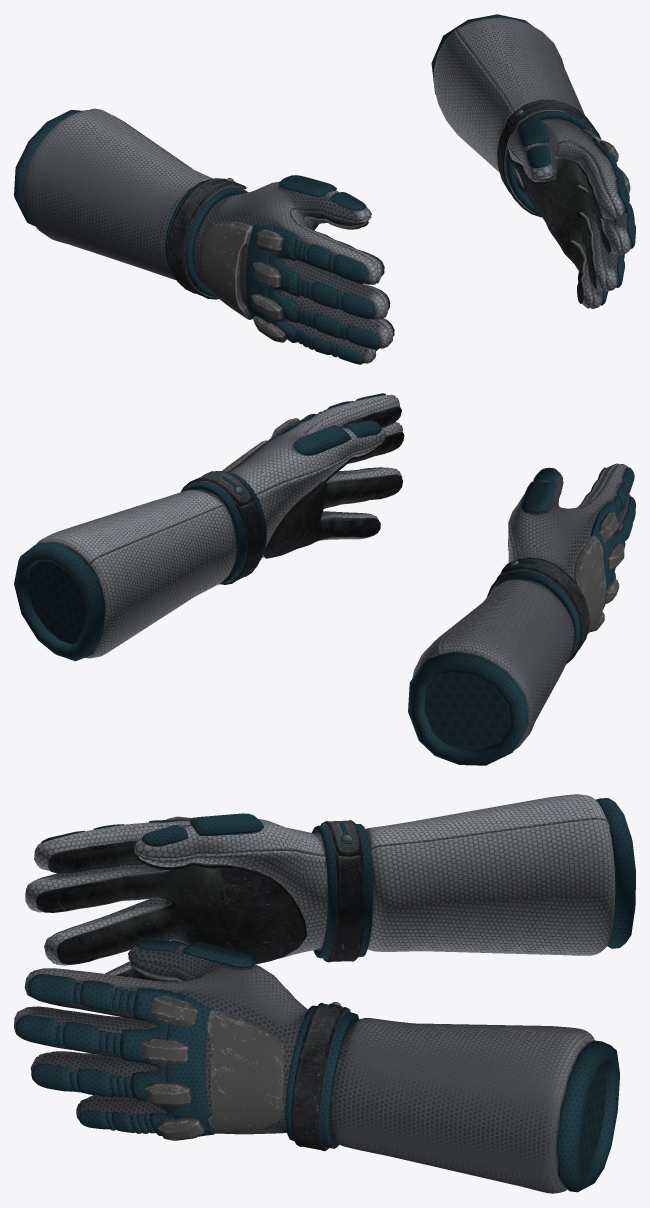
File: BothHands.fbx
The picture shows the model from 3 angles, top to bottom: view 1: azimuth 30°, elevation 25°; view 2: azimuth 150°, elevation 25°; view 3: azimuth 270°, elevation 25°; orthographic projection. The views are drawn at different scales.
Parts seen in each view (by area): view 1: BothHands; view 2: BothHands; view 3: BothHands.
Boxes of the visible parts, <box> form: BothHands: <box>14,14,635,364</box>; BothHands: <box>14,393,635,765</box>; BothHands: <box>14,794,635,1193</box>.
Size of the model in its own units: 50.05 by 13.51 by 42.07.
1 material, 1 textured.
